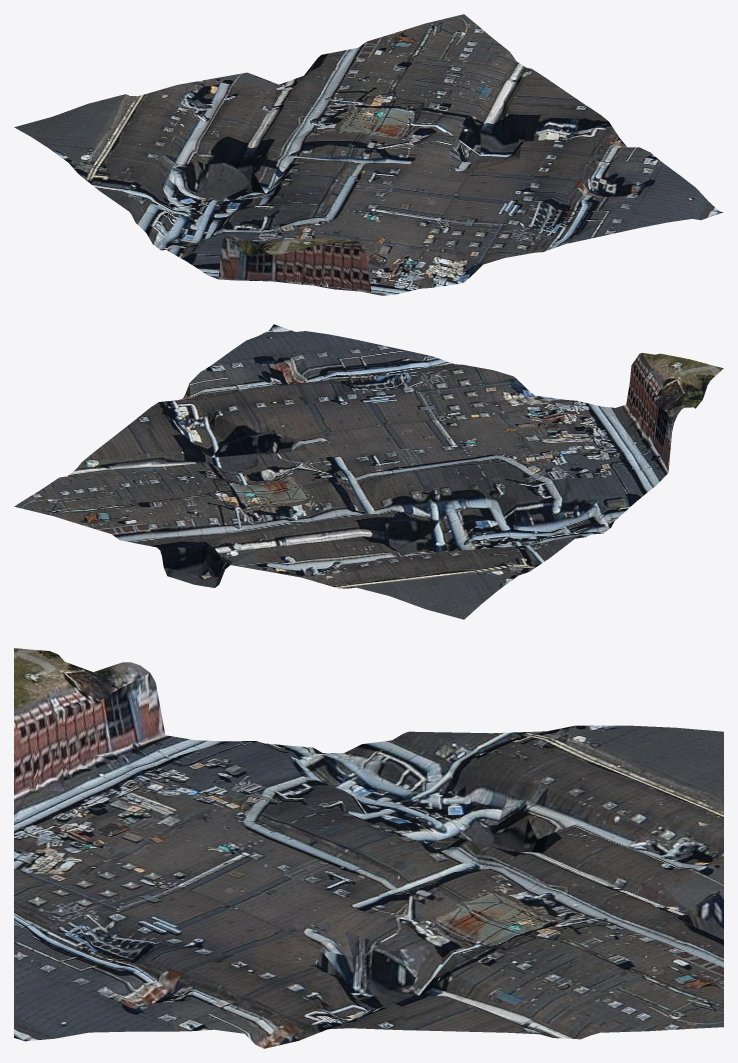
Rendered from map_15_8181_13783.dae.
3 views of the same model, one above another, from view 1: azimuth 30°, elevation 25°; view 2: azimuth 150°, elevation 25°; view 3: azimuth 270°, elevation 25° (orthographic). The views are drawn at different scales.
Parts seen in each view (by area): view 1: Ter0; view 2: Ter0; view 3: Ter0.
Boxes of the visible parts, x1,y1,x2,y2 form: Ter0: (14, 14, 723, 295); Ter0: (14, 324, 723, 619); Ter0: (14, 648, 723, 1048).
Bounding box in the file's own units: 63.87 × 63.88 × 12.95.
2 materials, 2 textured.
